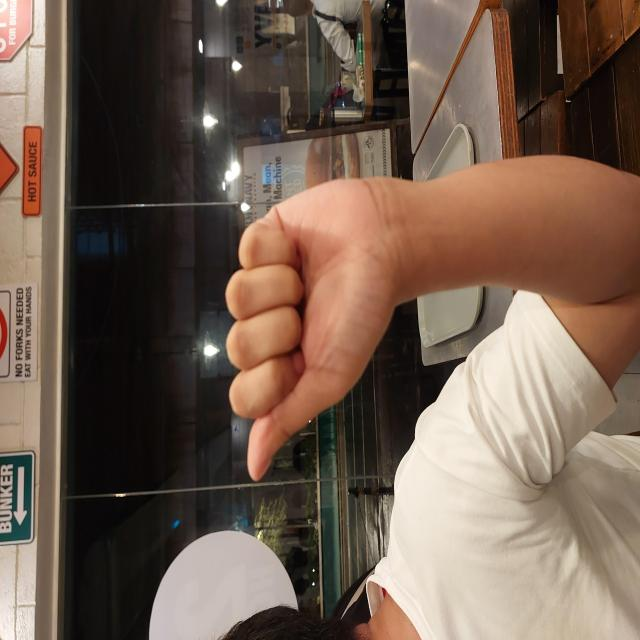A: (157, 224, 464, 399)
